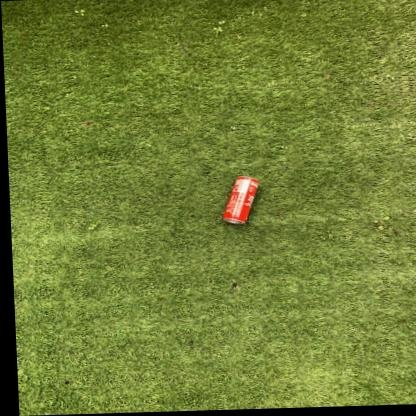trash: (223, 176, 258, 223)
